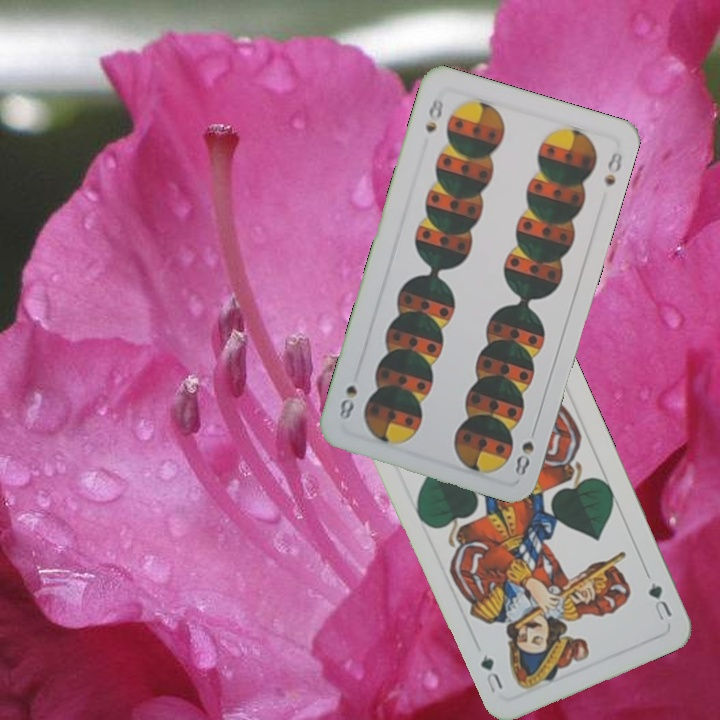GU: (644, 578, 675, 623)
S8: (511, 437, 537, 478), (421, 93, 446, 135)
